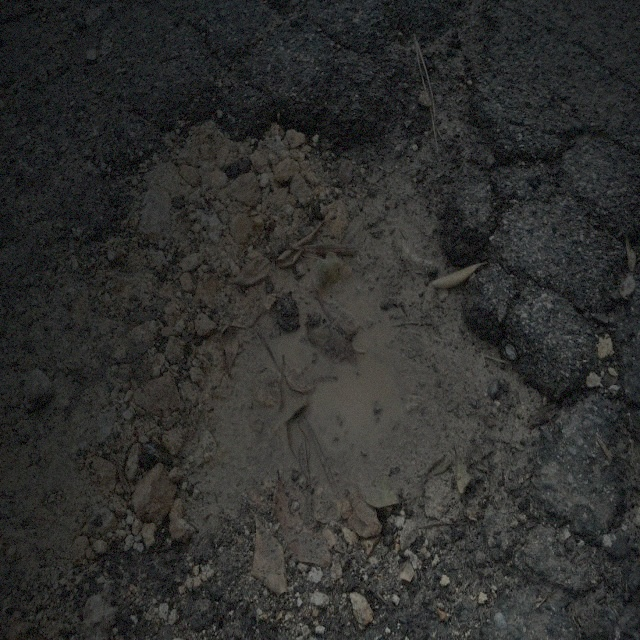pothole: (122, 90, 524, 541)
